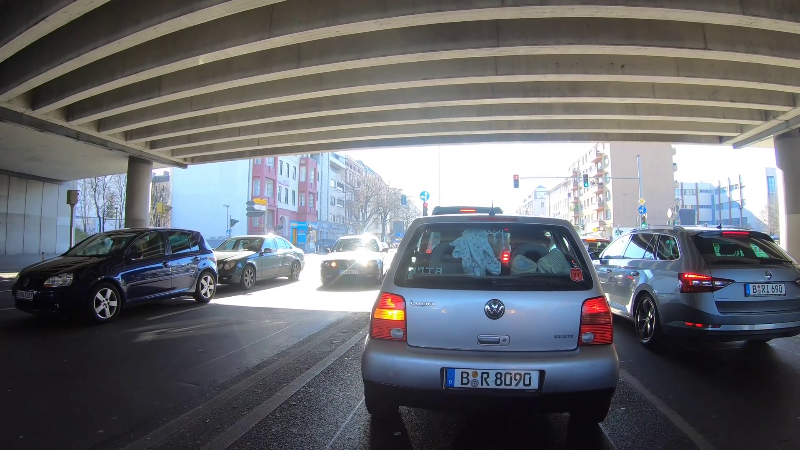Plate: (443, 366, 540, 390), (743, 282, 785, 295), (12, 290, 36, 301), (338, 269, 358, 275)
